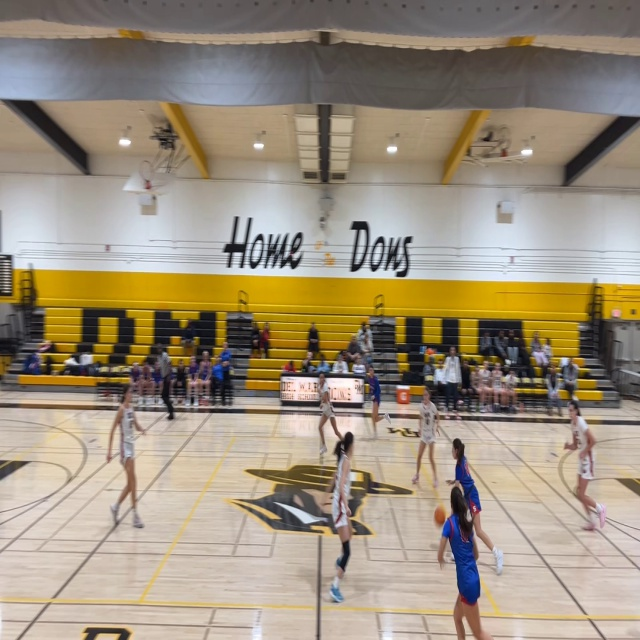Basketball: (433, 505, 446, 525)
